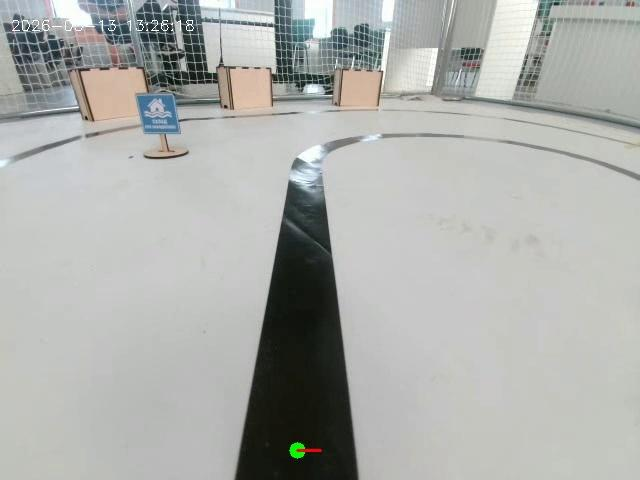flood: (122, 68, 198, 165)
